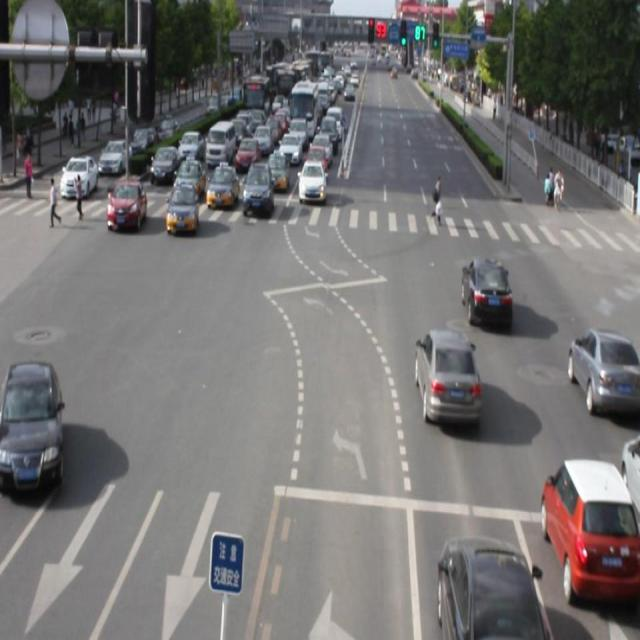car: (539, 458, 640, 606), (435, 531, 539, 640), (0, 360, 62, 496), (414, 330, 482, 424), (567, 327, 640, 409), (462, 256, 511, 329), (243, 162, 273, 215), (166, 182, 196, 234)
